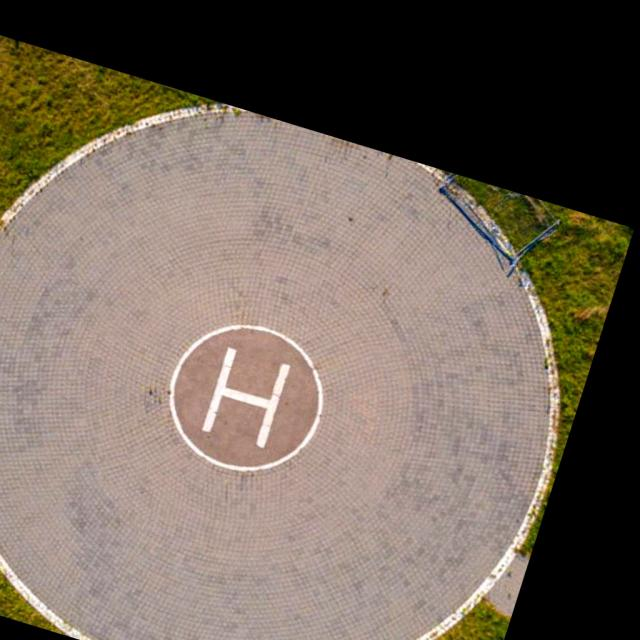helipad: (165, 319, 326, 477)
